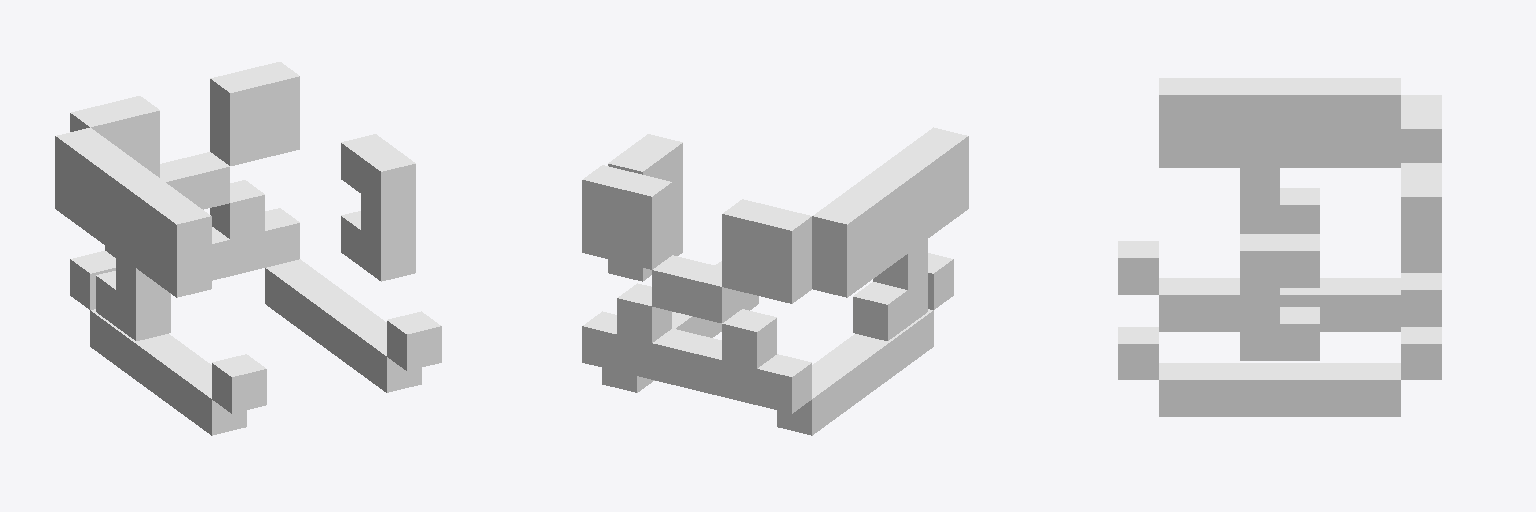
File: RoboZomboHeadColOnly.obj
3 views of the same model, side by side, from view 1: azimuth 30°, elevation 25°; view 2: azimuth 150°, elevation 25°; view 3: azimuth 270°, elevation 25° (orthographic).
Bounding box in the file's own units: 8 × 6 × 8.